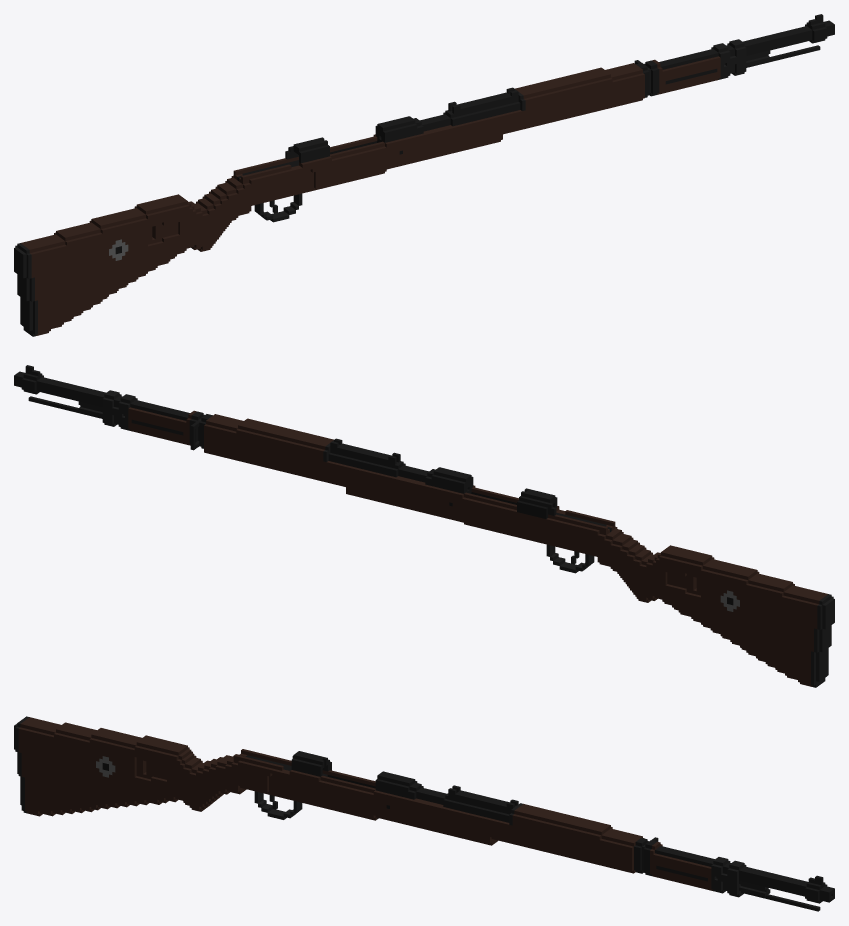
File: Kar98k_stock_empty.obj
The picture shows the model from 3 angles, top to bottom: view 1: azimuth 30°, elevation 25°; view 2: azimuth 150°, elevation 25°; view 3: azimuth 330°, elevation 25°; orthographic projection.
Bounding box in the file's own units: 25.2 × 3.7 × 0.9.
Materials: 1 (1 with a texture image).
